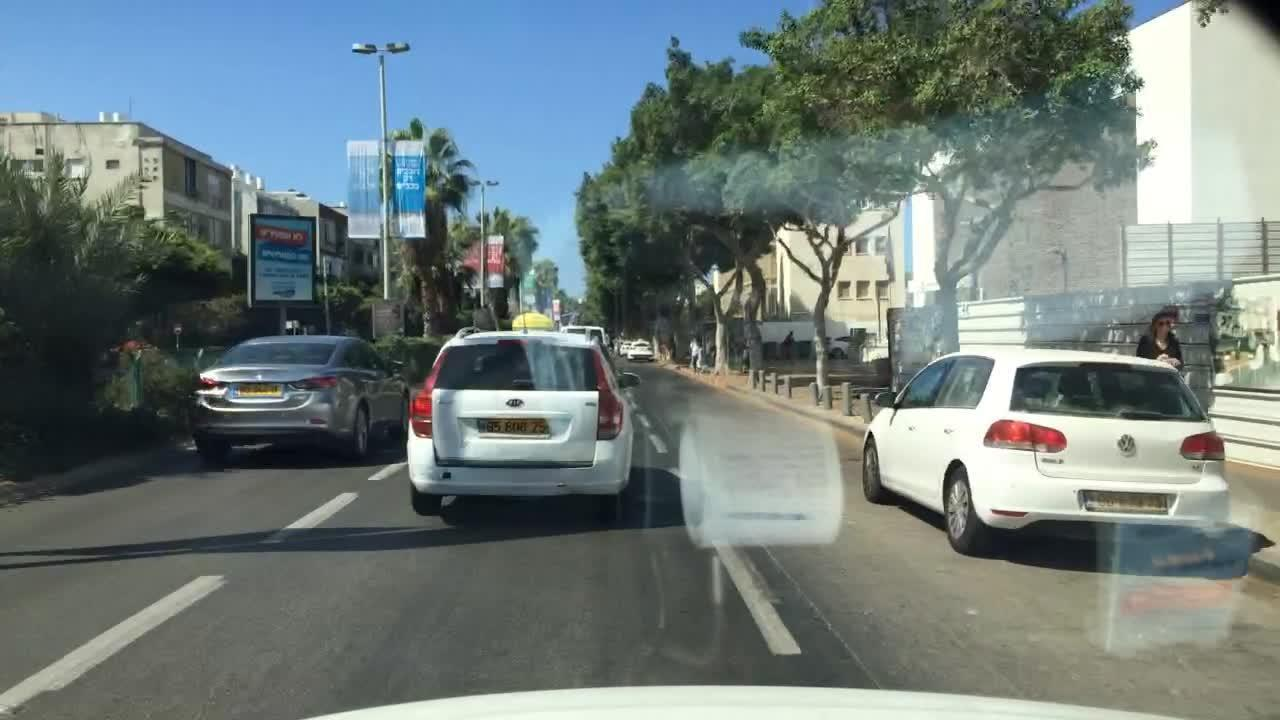Volkswagen: (1113, 425, 1149, 465)
kia: (503, 396, 525, 410)
